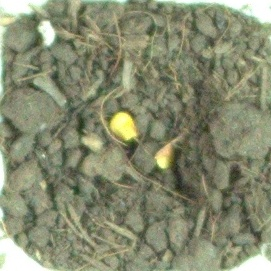chilli seed: (106, 109, 140, 143), (154, 140, 182, 170)
